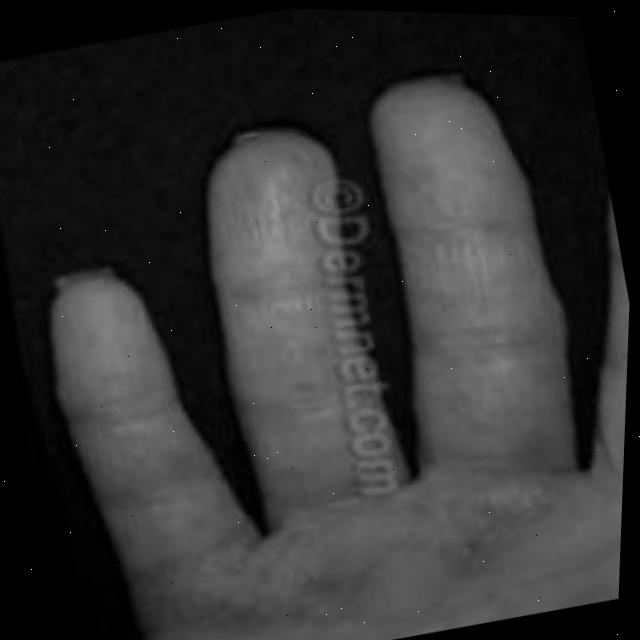Eczema: (128, 441, 592, 640)
